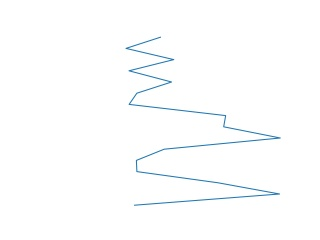majorRiverBedLagDeposit: (125, 36, 286, 208)
